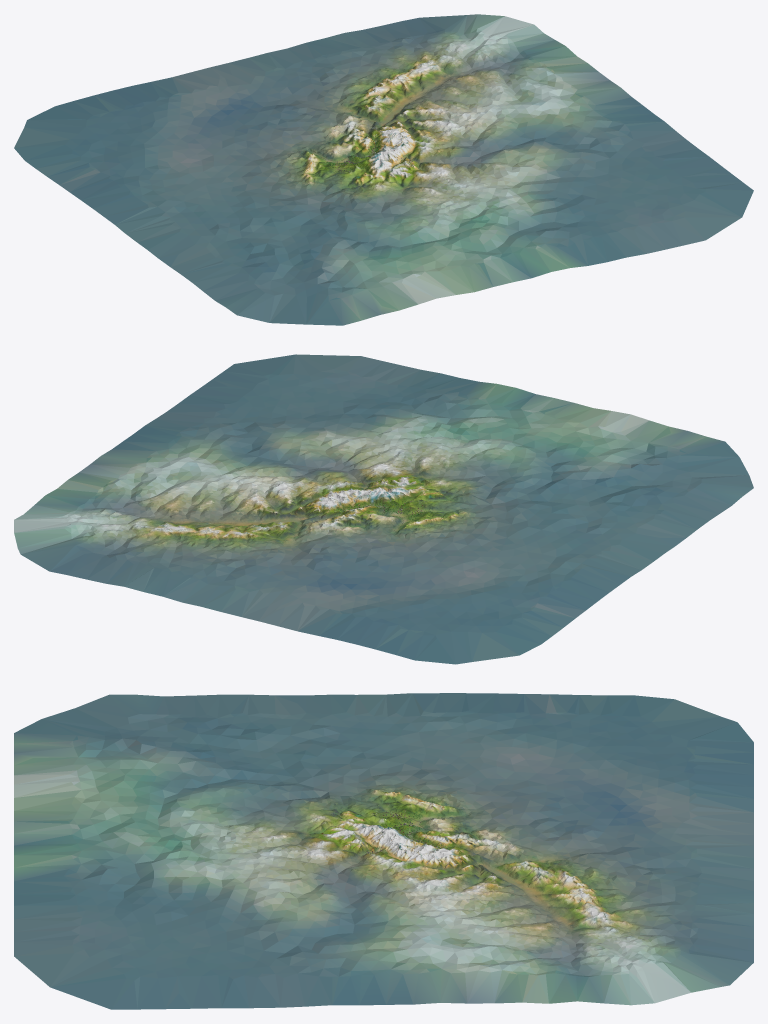
The model's file is scene_full_47.glb.
3 renders of one model, top to bottom at view 1: azimuth 30°, elevation 25°; view 2: azimuth 150°, elevation 25°; view 3: azimuth 270°, elevation 25°, orthographic. The views are drawn at different scales.
Parts seen in each view (by area): view 1: map_1.5; view 2: map_1.5; view 3: map_1.5.
Boxes of the visible parts, x1=… form: map_1.5: x1=14, y1=14, x2=753, y2=325; map_1.5: x1=14, y1=354, x2=753, y2=664; map_1.5: x1=14, y1=693, x2=753, y2=1009.
Bounding box in the file's own units: 630 × 23.91 × 630.
